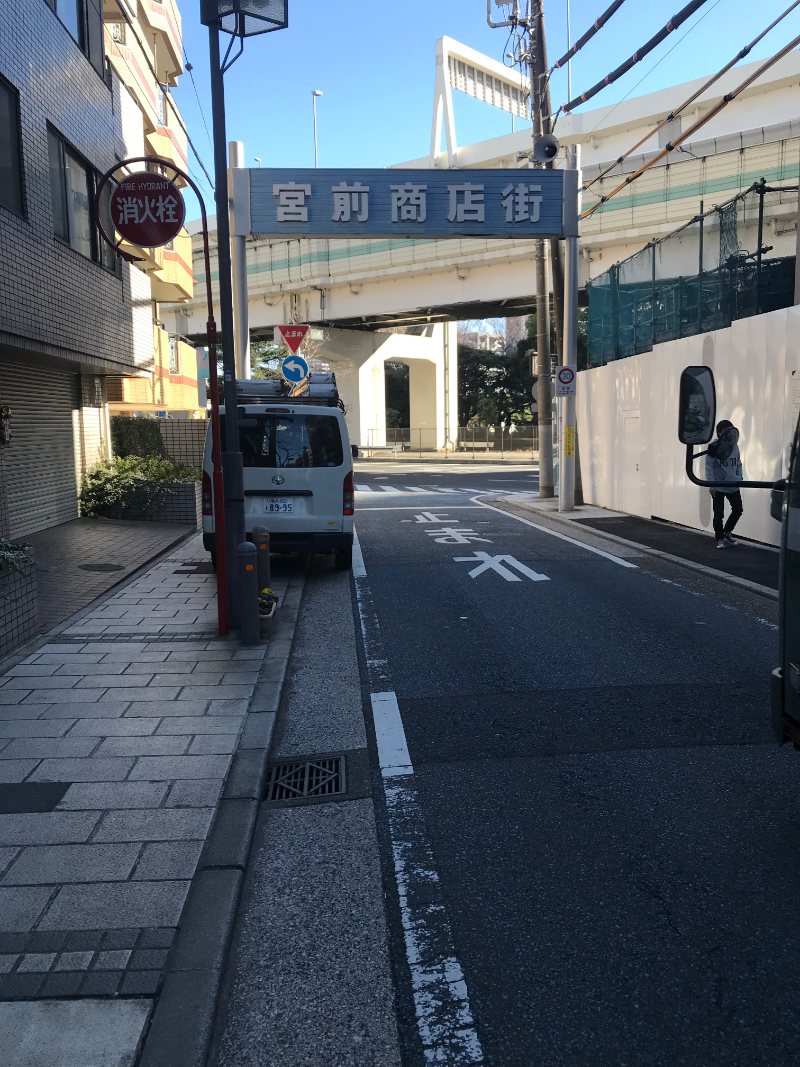STOP: (275, 322, 311, 354)
